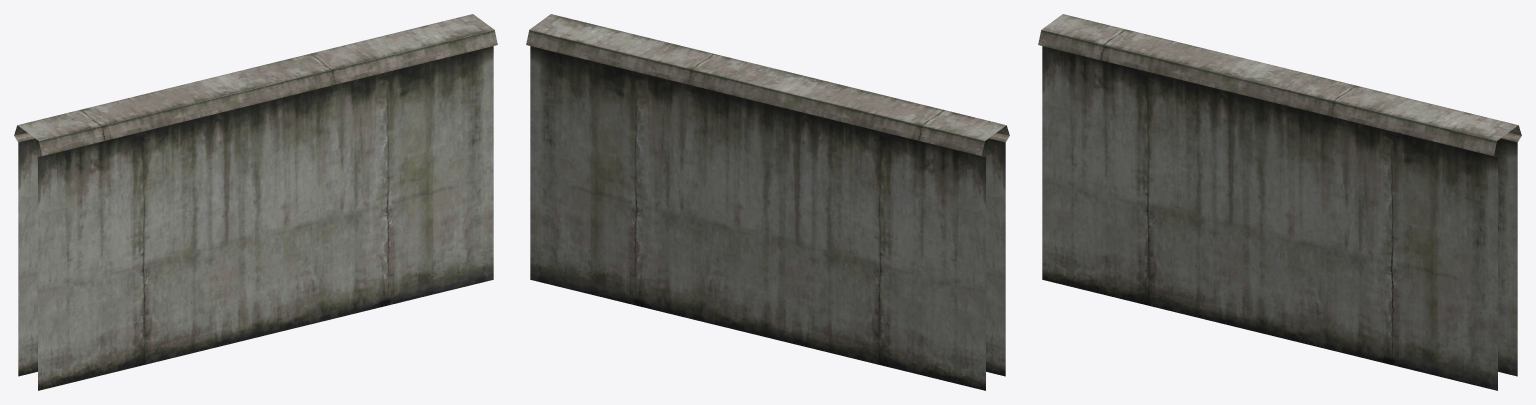
The model's file is UNIConcrete_fence_v1_s.fbx.
The picture shows the model from 3 angles, left to right: view 1: azimuth 30°, elevation 25°; view 2: azimuth 150°, elevation 25°; view 3: azimuth 330°, elevation 25°; orthographic projection.
Visible parts, largest first — view 1: UNIConcrete_fence_v1_s; view 2: UNIConcrete_fence_v1_s; view 3: UNIConcrete_fence_v1_s.
Boxes of the visible parts, box(x1,y1,x2,y2) form: UNIConcrete_fence_v1_s: box(14, 14, 497, 390); UNIConcrete_fence_v1_s: box(526, 14, 1009, 390); UNIConcrete_fence_v1_s: box(1038, 14, 1521, 390).
Bounding box in the file's own units: 473 × 248 × 50.38.
